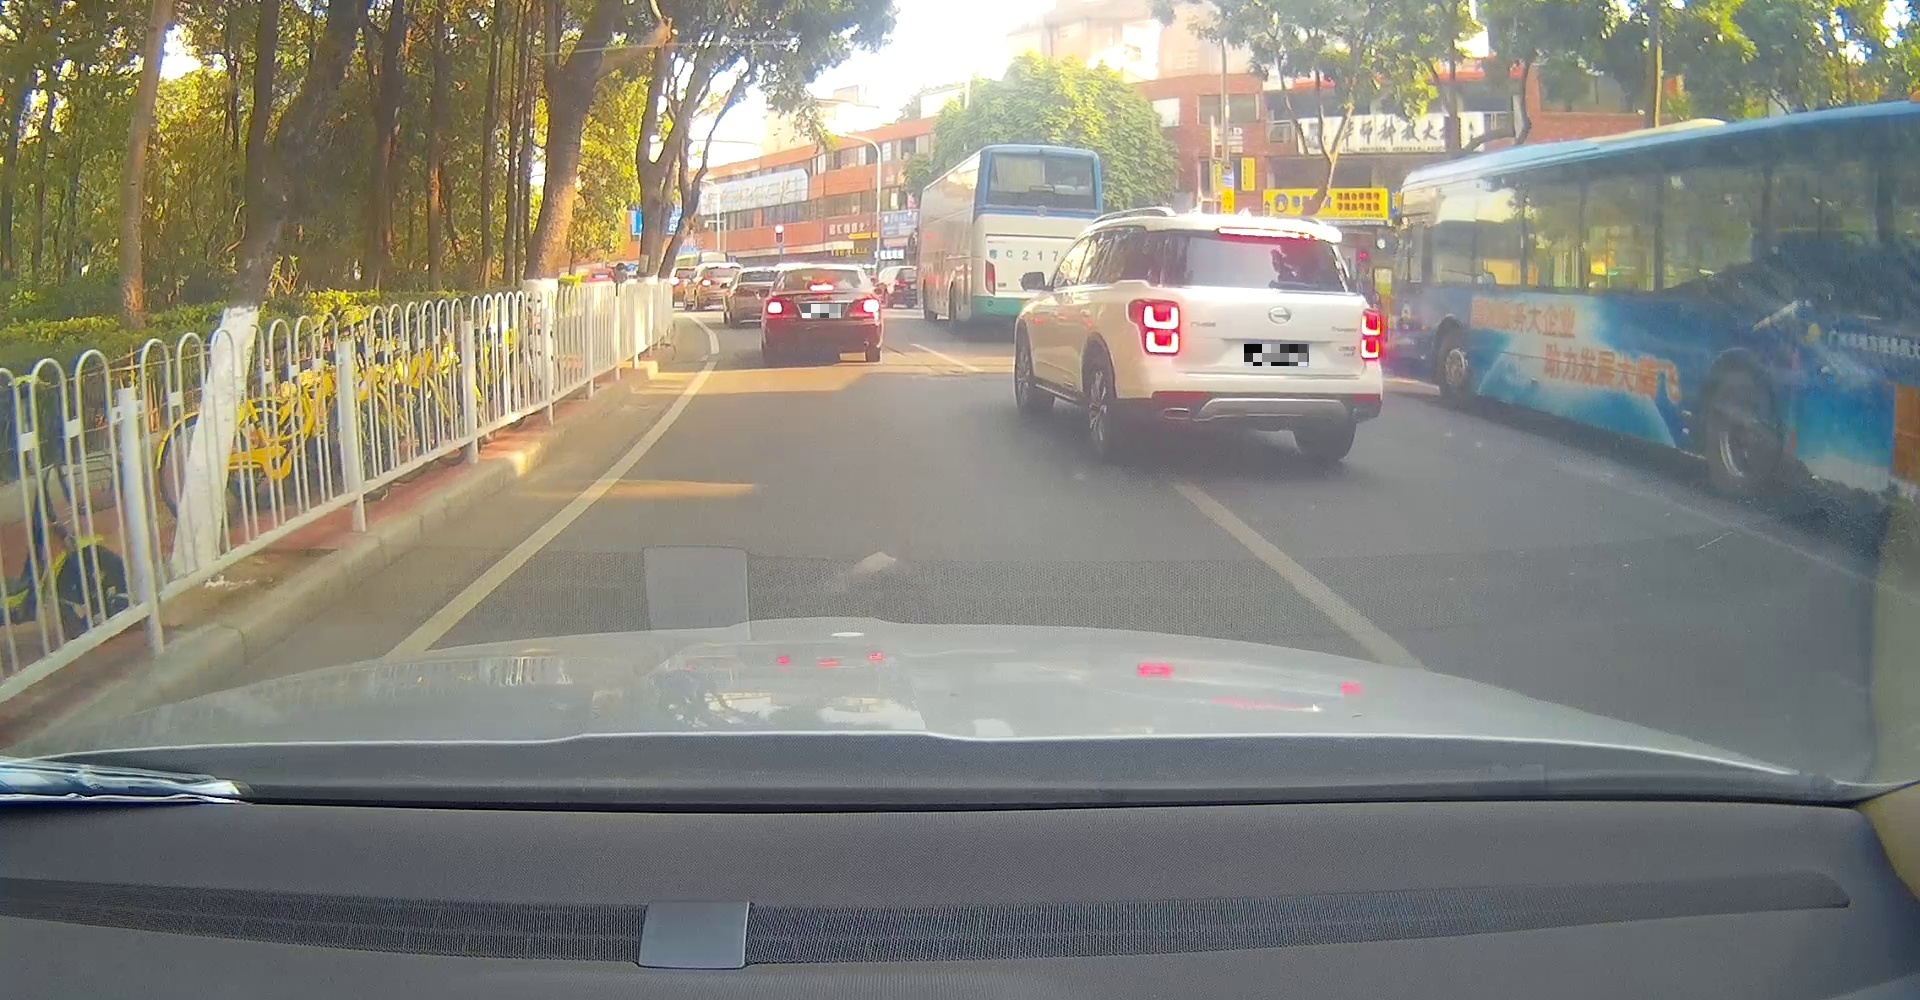L_light: (1126, 296, 1182, 357), (764, 297, 796, 320)
R_light: (1360, 308, 1383, 360), (850, 297, 881, 317)
T_light: (1214, 225, 1313, 241), (808, 283, 836, 292)
day-brake: (1121, 213, 1385, 461), (763, 265, 883, 363)
plate_1: (803, 305, 841, 319)
plate_2: (1244, 344, 1309, 365)
